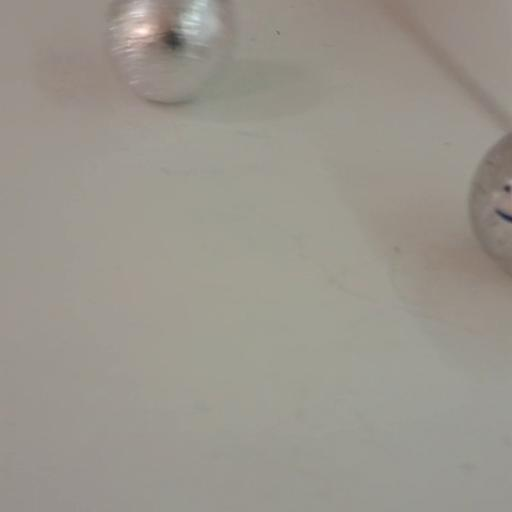alive: (100, 0, 235, 103), (468, 125, 510, 277)
